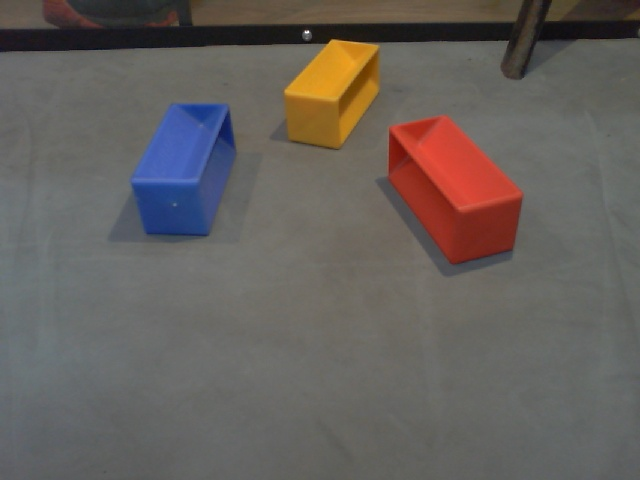BlueSample: (129, 97, 236, 238)
RedSample: (384, 114, 525, 272)
YellowSample: (283, 38, 383, 151)
